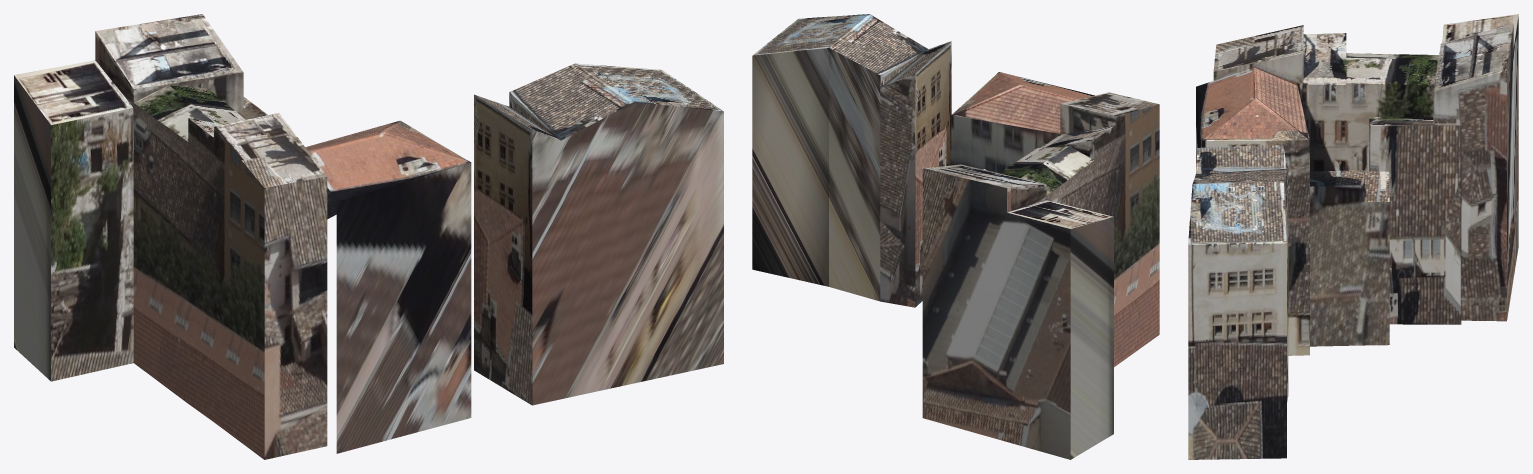
The picture shows the model from 3 angles, left to right: view 1: azimuth 30°, elevation 25°; view 2: azimuth 150°, elevation 25°; view 3: azimuth 270°, elevation 25°; orthographic projection. The views are drawn at different scales.
Parts seen in each view (by area): view 1: Z_UP; view 2: Z_UP; view 3: Z_UP.
Part boxes in pixels (bbox=[...]): Z_UP: bbox=[14, 14, 723, 459]; Z_UP: bbox=[752, 14, 1159, 459]; Z_UP: bbox=[1188, 14, 1518, 459].
Bounding box in the file's own units: 39.94 × 21.87 × 25.71.
Materials: 2 (1 with a texture image).
